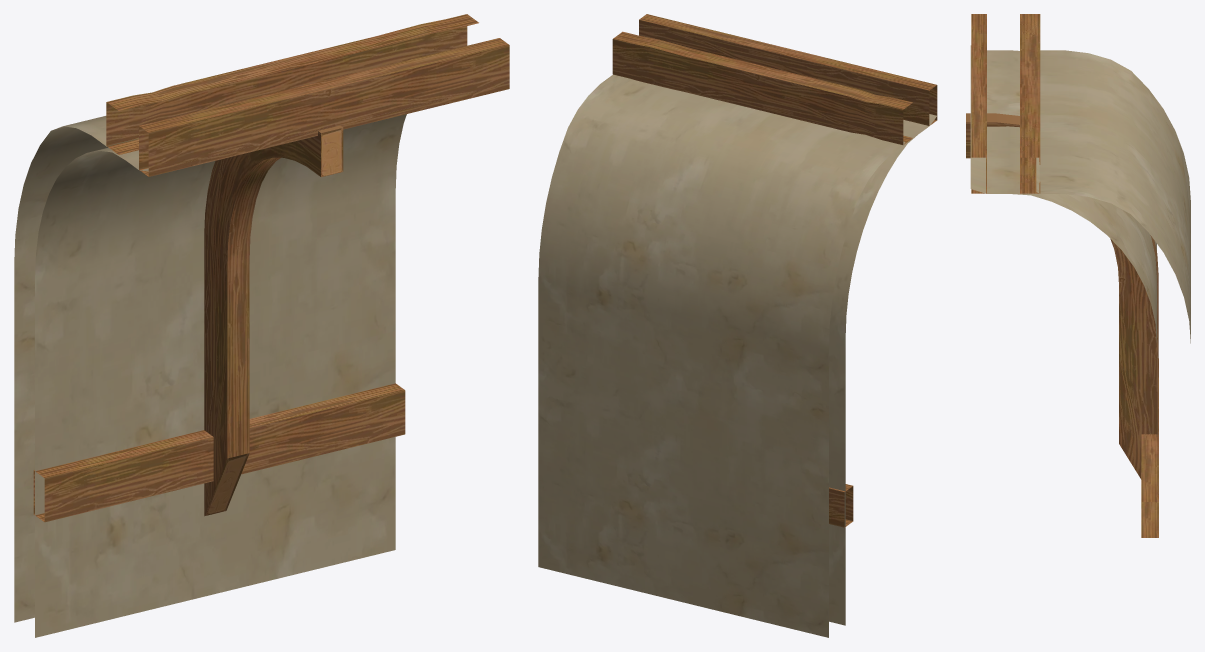
The model's file is overhang_plaster_short.glb.
The picture shows the model from 3 angles, left to right: view 1: azimuth 30°, elevation 25°; view 2: azimuth 150°, elevation 25°; view 3: azimuth 270°, elevation 25°; orthographic projection. The views are drawn at different scales.
Size of the model in its own units: 2 by 3.12 by 1.32.
Materials: 2 (2 with a texture image).
